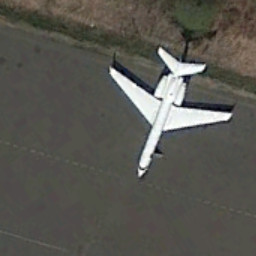Airplane: (100, 34, 238, 188)
